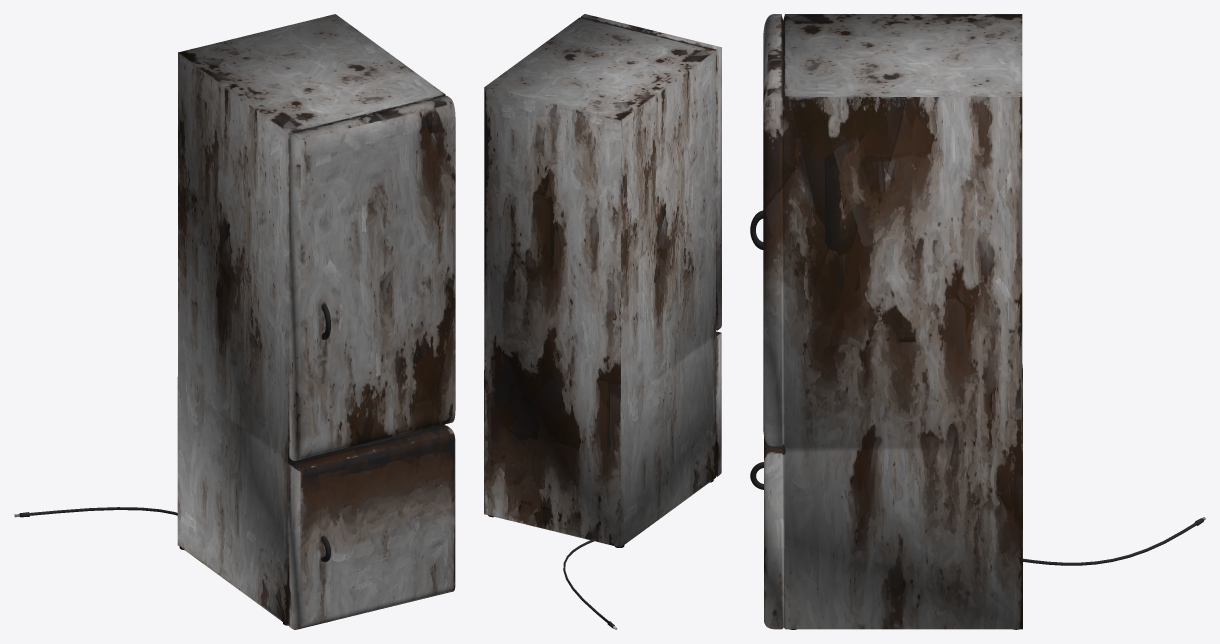
Rendered from old_fridge.glb.
3 views of the same model, side by side, from view 1: azimuth 30°, elevation 25°; view 2: azimuth 150°, elevation 25°; view 3: azimuth 270°, elevation 25° (orthographic). The views are drawn at different scales.
Visible parts, largest first — view 1: Object_2; view 2: Object_2, Object_4; view 3: Object_2, Object_4.
Part boxes in pixels (bbox=[...]): Object_2: bbox=[177, 14, 455, 629]; Object_2: bbox=[484, 14, 721, 547]; Object_4: bbox=[563, 538, 617, 629]; Object_2: bbox=[763, 14, 1022, 629]; Object_4: bbox=[1023, 517, 1205, 565].
Bounding box in the file's own units: 46.67 × 95.32 × 71.83.
Materials: 4 (3 with a texture image).
